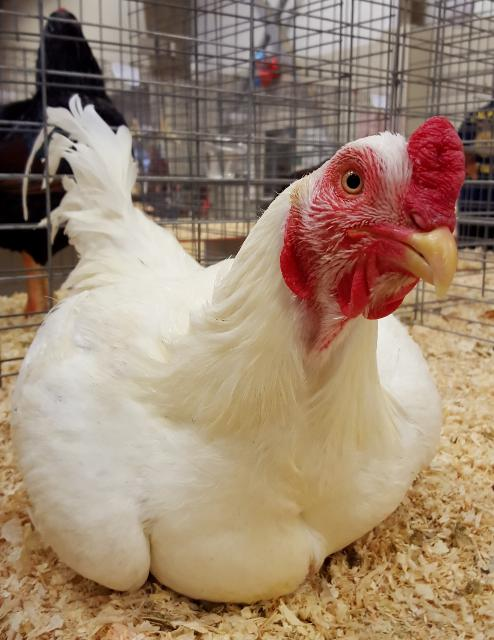Chicken: (9, 96, 471, 604)
